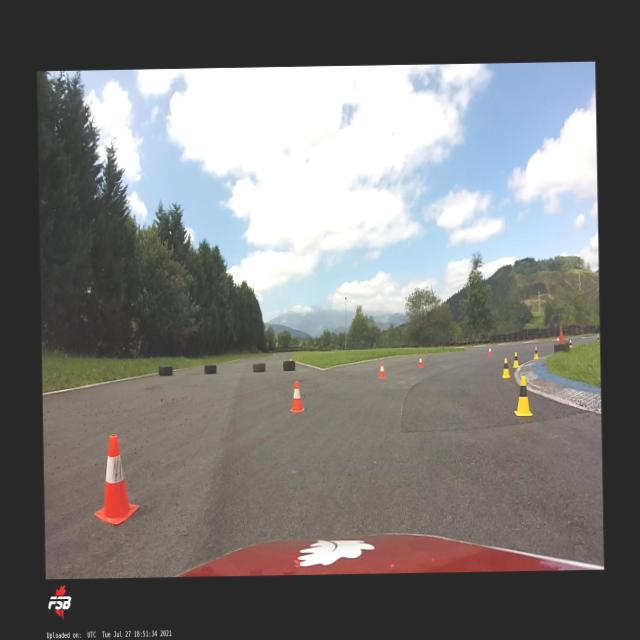orange_cone: (92, 434, 140, 526), (289, 381, 305, 412), (378, 361, 386, 378), (418, 354, 423, 367), (488, 346, 492, 356), (568, 339, 572, 348)
yellow_cone: (513, 375, 533, 416), (501, 357, 511, 378), (512, 352, 520, 368), (532, 346, 540, 358), (568, 339, 572, 348)
